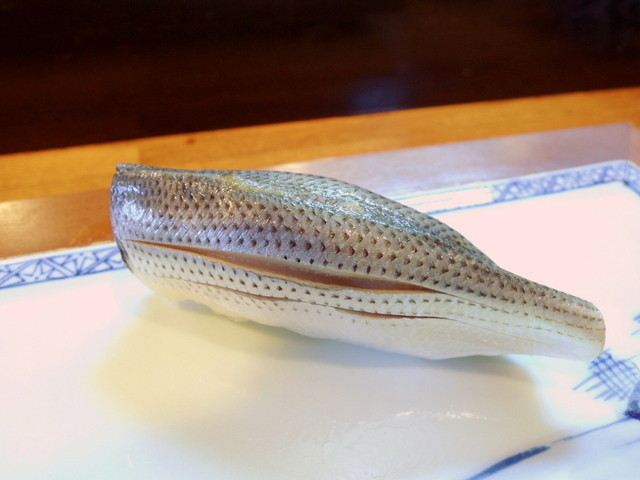spotted-shad: (107, 155, 606, 378)
